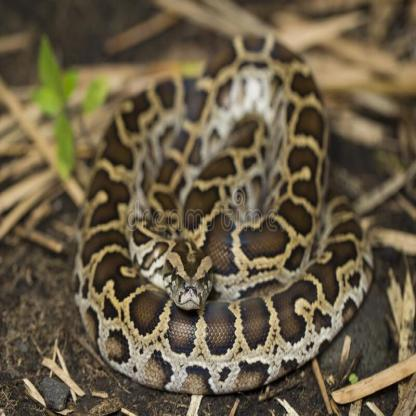Snake: (76, 27, 375, 397)
